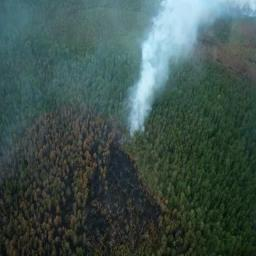Low smoke: (117, 0, 256, 159)
